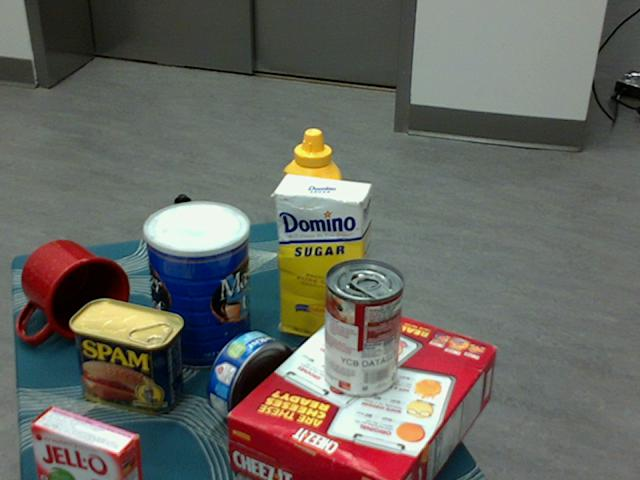cracker_box: (227, 302, 497, 479)
gelatin_box: (28, 403, 139, 479)
large_marker: (174, 193, 194, 291)
master_chef_can: (143, 201, 250, 370)
mug: (19, 239, 129, 342)
mustard_bottle: (281, 128, 340, 303)
potted_meat_can: (68, 297, 182, 413)
sugar_box: (274, 173, 372, 347)
tomato_soup_can: (321, 260, 403, 399)
tuna_fish_can: (207, 331, 296, 429)
